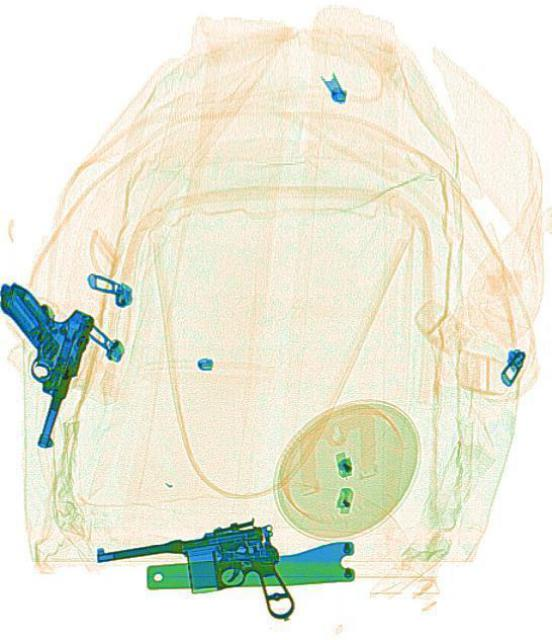Gun: (96, 513, 292, 637), (0, 280, 90, 448)
